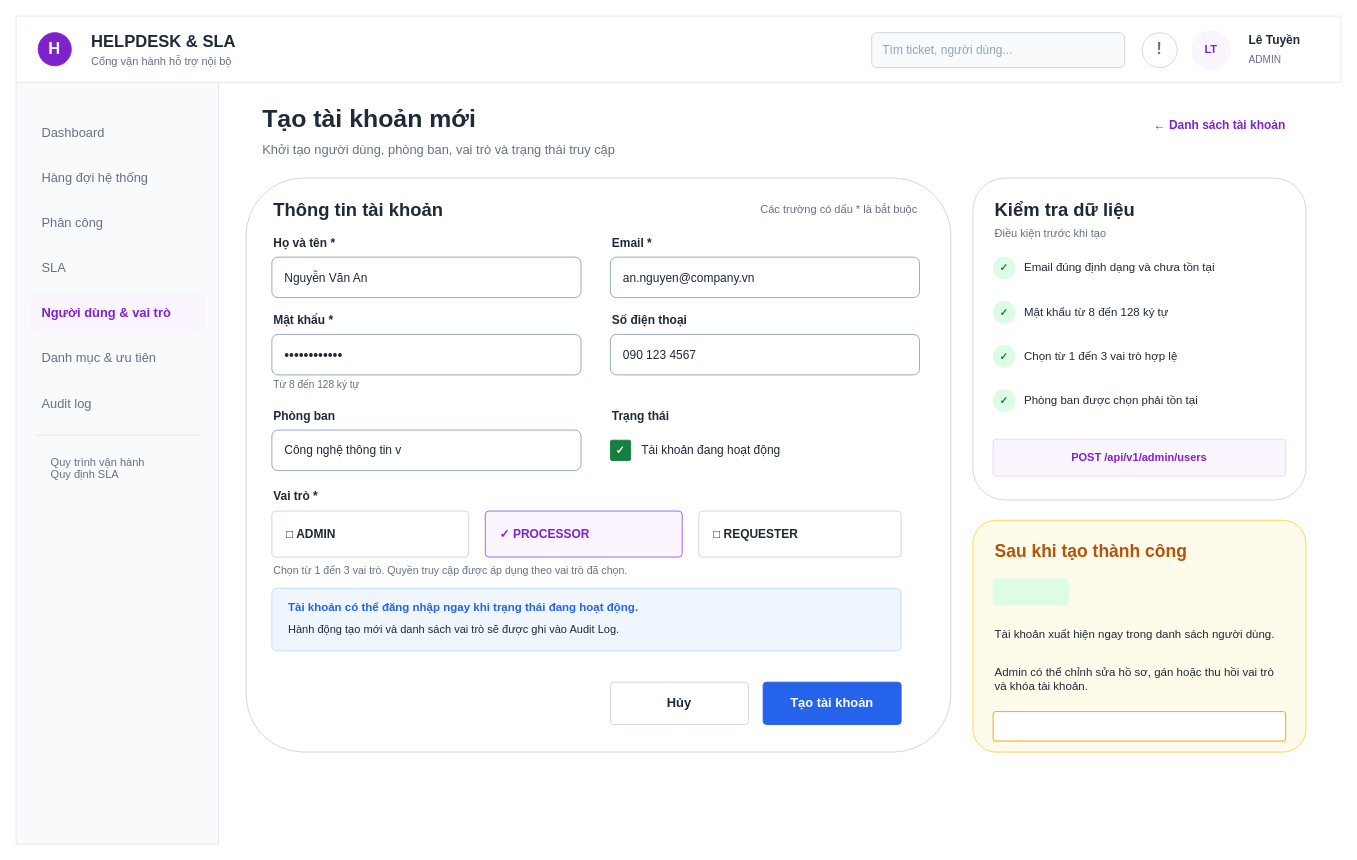
Some shapes in this 1357 by 860 pixel diagram are drawn without their labels. The shapes that lost their labels are listed below. From the top down, each one's box as (x1, y1, x2, y2) in pixels, then its label:
(992, 578, 1069, 605): ACTIVE
(992, 711, 1286, 741): AUDIT: USER_CREATED
